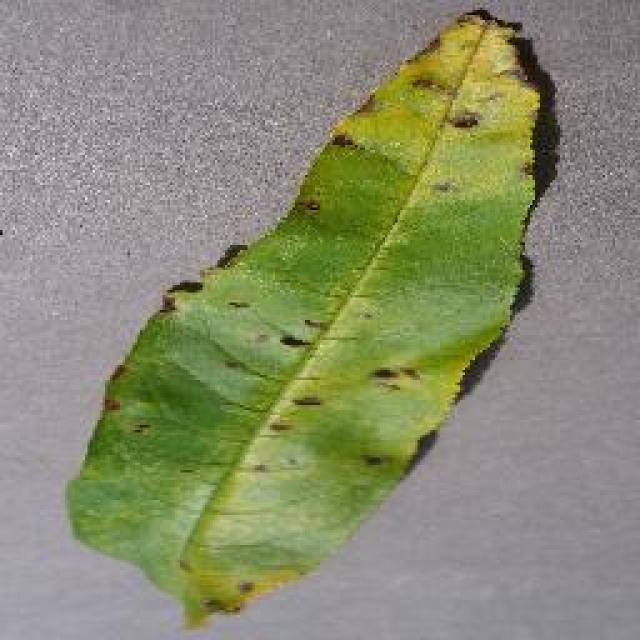Peach_Bacterial_Spot: (253, 92, 520, 483)
